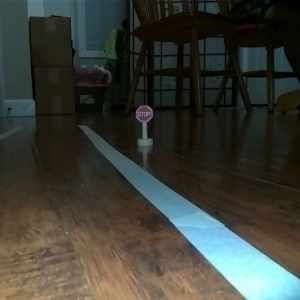stop sign: (134, 104, 155, 148)
